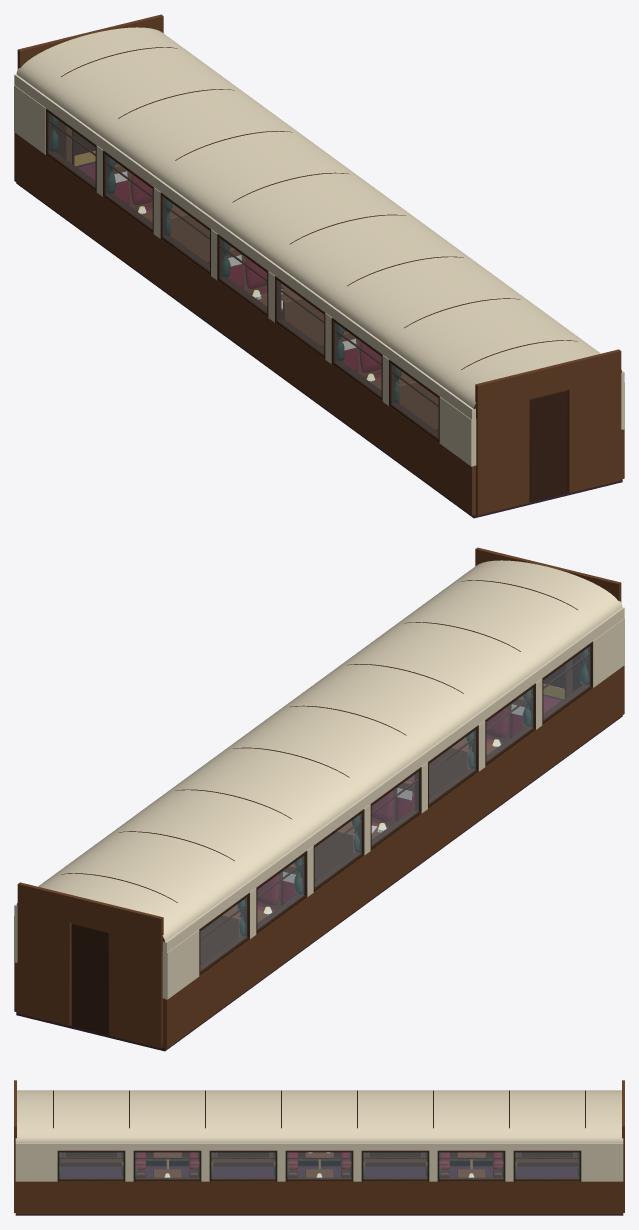
File: carriage.glb
3 views of the same model, one above another, from view 1: azimuth 30°, elevation 25°; view 2: azimuth 150°, elevation 25°; view 3: azimuth 270°, elevation 25° (orthographic). The views are drawn at different scales.
Visible parts, largest first — view 1: Carriage_Cream, Carriage_Wood, Carriage_WoodDark, Windows, Carriage_Upholstery, Carriage_Carpet, Carriage_Curtain; view 2: Carriage_Cream, Carriage_Wood, Carriage_WoodDark, Windows, Carriage_Upholstery, Carriage_Carpet, Carriage_Curtain; view 3: Carriage_Cream, Carriage_Wood, Windows, Carriage_WoodDark, Carriage_Carpet, Carriage_Upholstery, Carriage_Black, Carriage_Curtain.
Boxes of the visible parts, x1,y1,x2,y2 form: Carriage_Cream: (14, 27, 624, 466); Carriage_Wood: (14, 14, 624, 515); Carriage_WoodDark: (46, 47, 622, 514); Windows: (48, 113, 438, 437); Carriage_Upholstery: (113, 174, 381, 378); Carriage_Carpet: (16, 162, 622, 518); Carriage_Curtain: (50, 115, 401, 403); Carriage_Cream: (14, 560, 624, 999); Carriage_Wood: (14, 547, 624, 1048); Carriage_WoodDark: (17, 580, 592, 1047); Windows: (200, 646, 590, 970); Carriage_Upholstery: (257, 707, 525, 911); Carriage_Carpet: (16, 695, 622, 1051); Carriage_Curtain: (237, 648, 588, 936); Carriage_Cream: (15, 1090, 623, 1181); Carriage_Wood: (14, 1080, 624, 1214); Windows: (59, 1152, 579, 1178); Carriage_WoodDark: (53, 1090, 585, 1181); Carriage_Carpet: (15, 1166, 623, 1215); Carriage_Upholstery: (136, 1152, 502, 1169); Carriage_Black: (146, 1160, 492, 1165); Carriage_Curtain: (59, 1152, 579, 1177).
Size of the model in its own units: 3.1 by 2.57 by 16.08.
